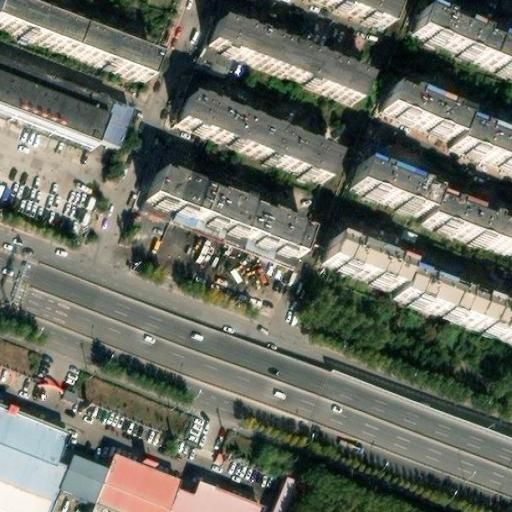building: (318, 235, 512, 340), (346, 159, 512, 253), (143, 170, 304, 254), (173, 94, 333, 178), (203, 19, 361, 102), (0, 57, 124, 148), (377, 85, 512, 166), (89, 463, 242, 512), (404, 8, 512, 77), (0, 422, 62, 506), (54, 466, 102, 510)
